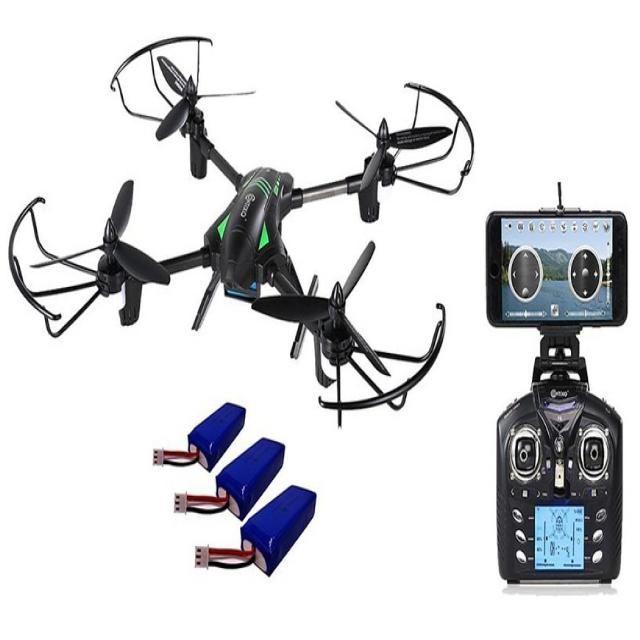drone: (4, 0, 456, 410)
